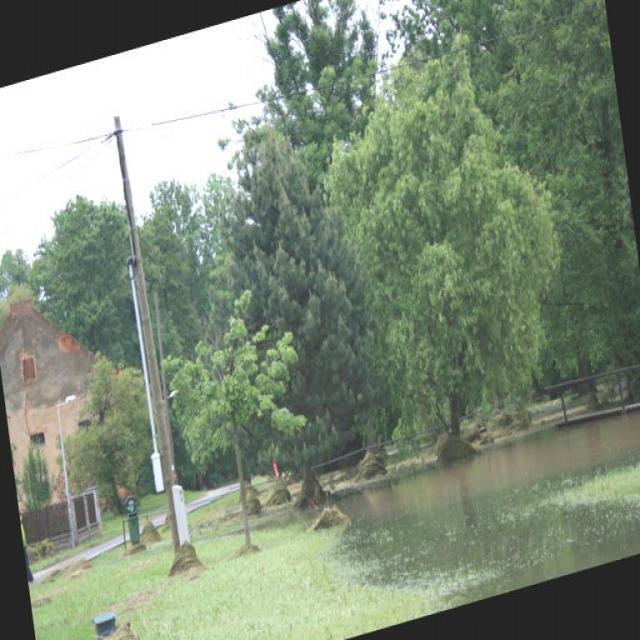flood: (334, 393, 639, 638)
